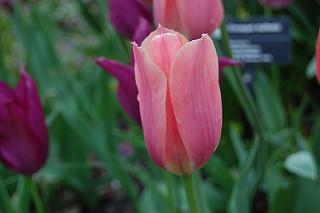tulip: (130, 24, 223, 173)
